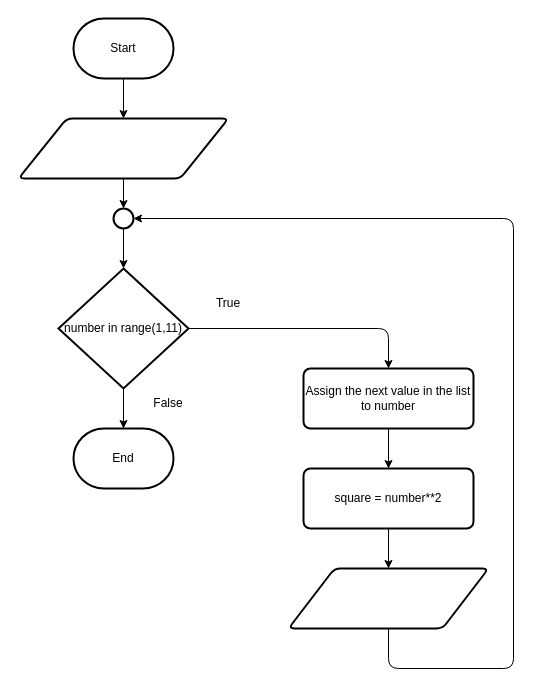
This 539x694 diagram has some shape labels left out. The shapes that lost their labels are listed below. From the top down, each one's centre as x and y in pixels, then its label:
At (123,148): "Display Table Headings".
At (388,598): "Display the number variable and the sqare variable.".
